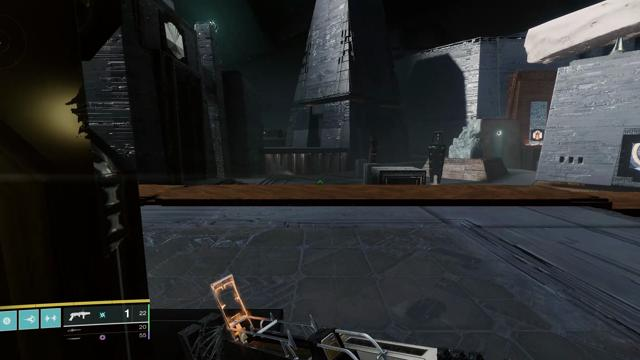commune: (164, 22, 185, 59)
traveler: (629, 142, 640, 171)
worship: (533, 130, 542, 140)
